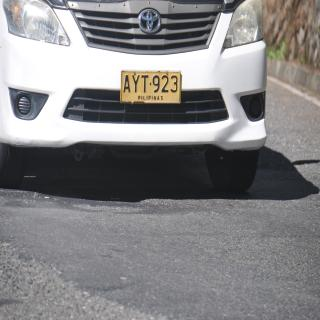license: (121, 71, 182, 105)
